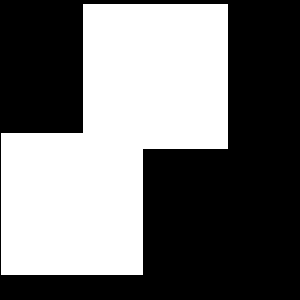circle: (83, 4, 228, 149), (1, 133, 143, 275), (99, 98, 149, 148)
rectangle: (96, 11, 204, 120)
